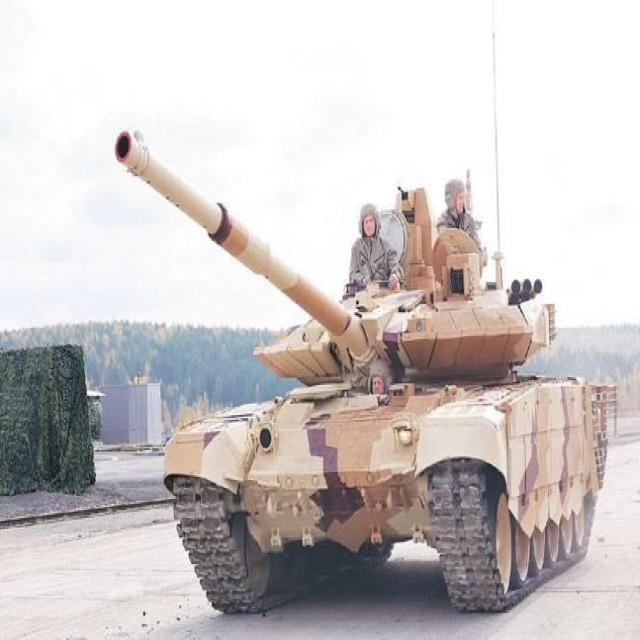MIL_MBT: (111, 119, 612, 596)
